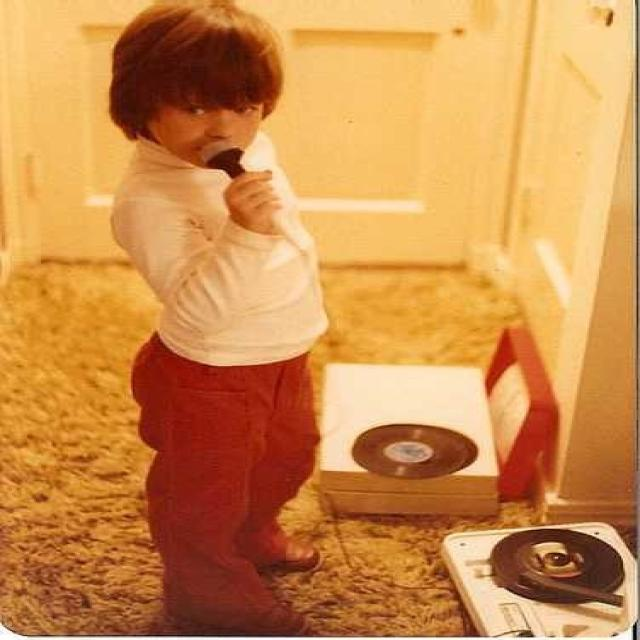microphone: (198, 142, 276, 216)
